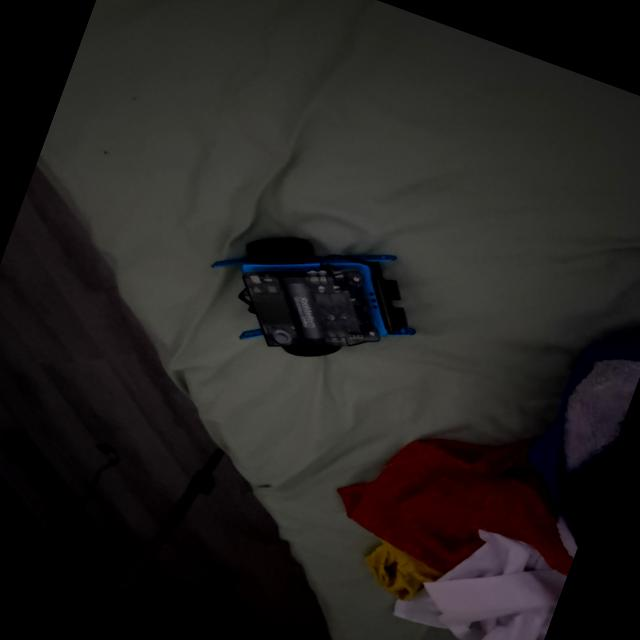mbot-detection: (186, 192, 447, 402)
